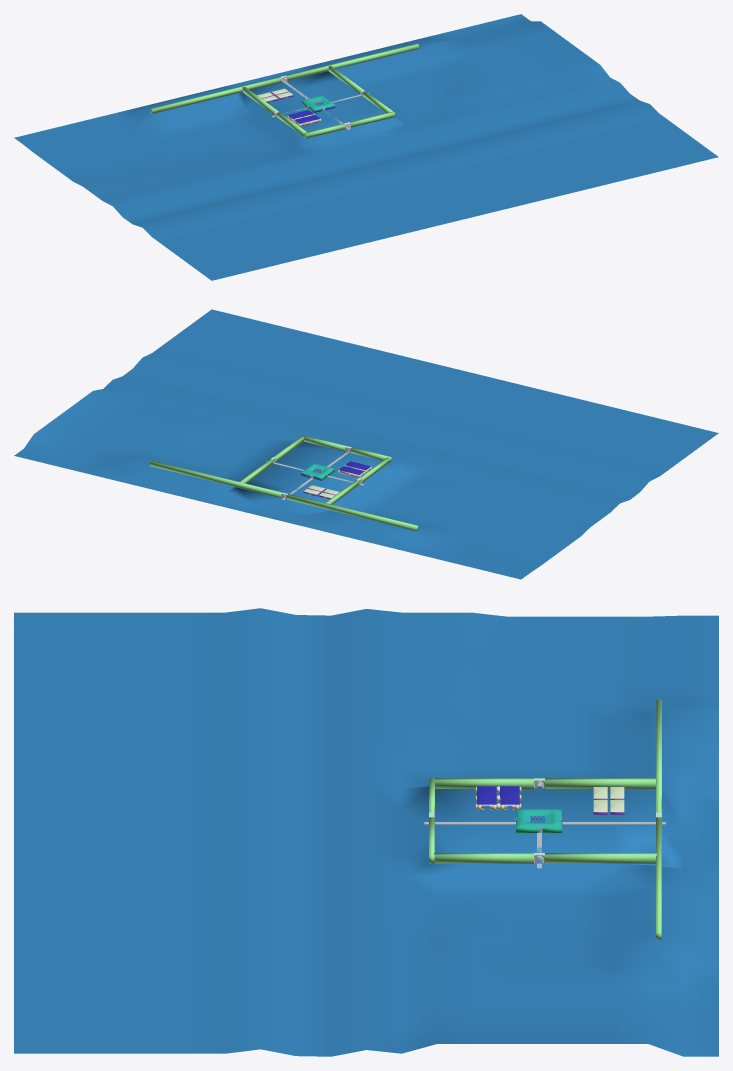
The model's file is carrawburgh.gltf.
3 views of the same model, one above another, from view 1: azimuth 30°, elevation 25°; view 2: azimuth 150°, elevation 25°; view 3: azimuth 270°, elevation 25° (orthographic). The views are drawn at different scales.
Visible parts, largest first — view 1: Plane024, Box009, Box010; view 2: Plane024, Box009, Box010; view 3: Plane024, Box005, Box003, Box006, Box004, Plane002, Box010.
Part boxes in pixels (x1=…): Plane024: x1=14, y1=14, x2=718, y2=280; Box009: x1=150, y1=77, x2=281, y2=113; Box010: x1=286, y1=43, x2=418, y2=80; Plane024: x1=14, y1=309, x2=718, y2=579; Box009: x1=287, y1=494, x2=418, y2=531; Box010: x1=150, y1=460, x2=282, y2=497; Plane024: x1=14, y1=608, x2=718, y2=1056; Box005: x1=545, y1=853, x2=656, y2=863; Box003: x1=545, y1=778, x2=655, y2=788; Box006: x1=434, y1=853, x2=533, y2=863; Box004: x1=434, y1=778, x2=533, y2=788; Plane002: x1=516, y1=809, x2=561, y2=828; Box010: x1=656, y1=817, x2=661, y2=939.
Size of the model in its own units: 26445 by 625 by 17860.
